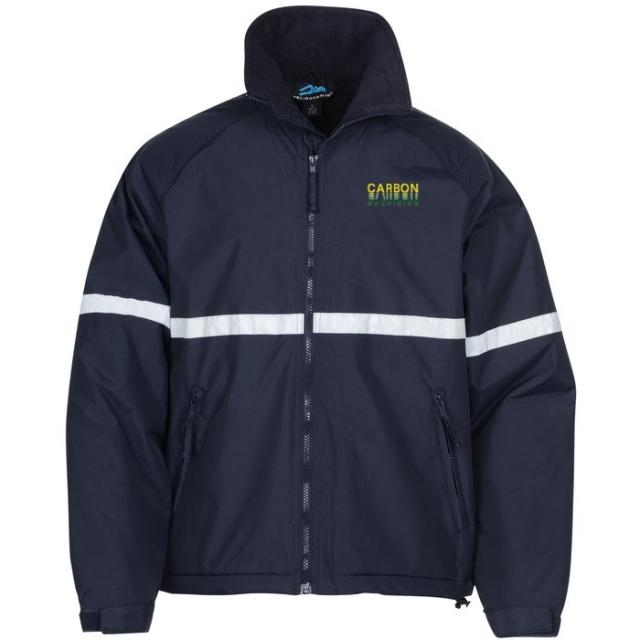Reflective-Jacket: (34, 7, 587, 640)
